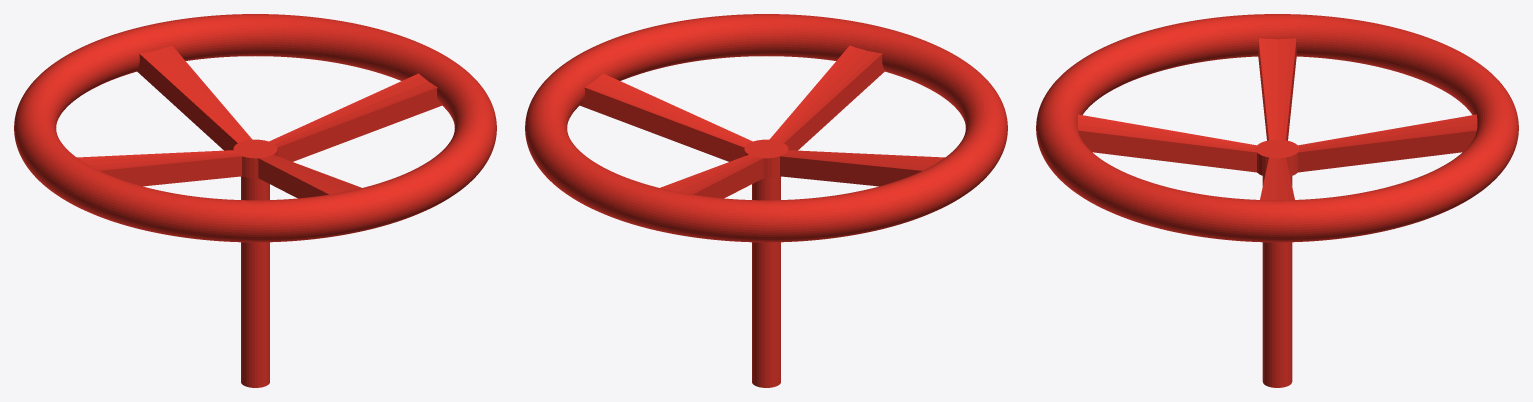
The model's file is Valve.glb.
3 views of the same model, side by side, from view 1: azimuth 30°, elevation 25°; view 2: azimuth 150°, elevation 25°; view 3: azimuth 270°, elevation 25° (orthographic).
Parts seen in each view (by area): view 1: Valve; view 2: Valve; view 3: Valve.
Boxes of the visible parts, <box> form: Valve: <box>14,14,496,387</box>; Valve: <box>525,14,1007,387</box>; Valve: <box>1036,14,1518,387</box>.
Size of the model in its own units: 1.99 by 1.24 by 1.99.
